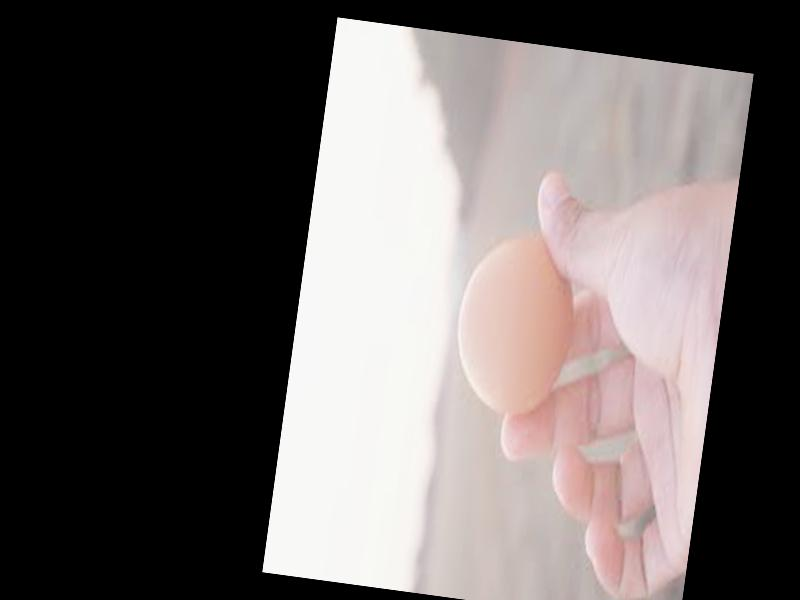Eggs: (446, 230, 581, 421)
